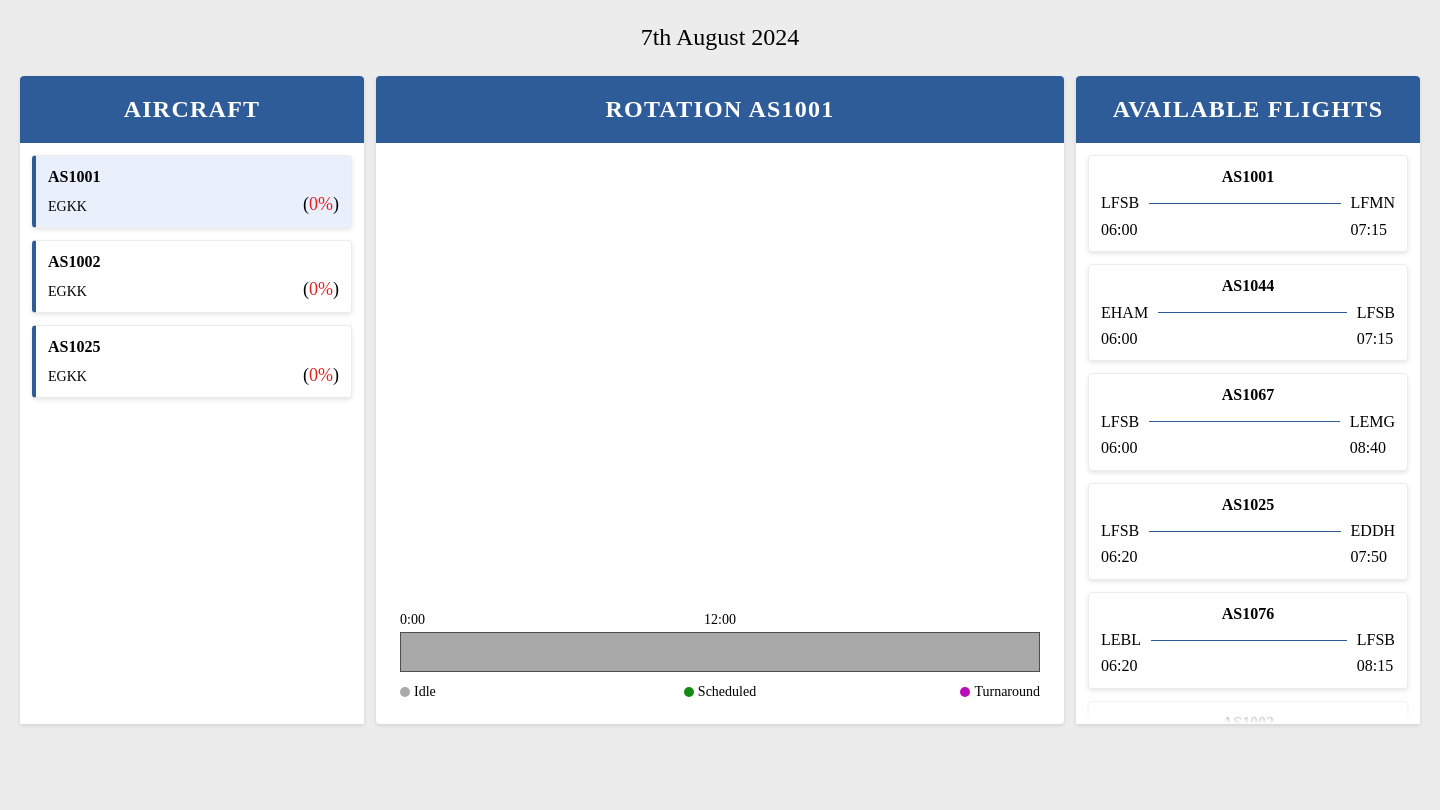
<Scheduler /> › A flight assigned to an aircraft should not appear for other aircraft
The width and height of the screenshot is (1440, 810).
Click the button "AS1001 LFSB 06:00 LFMN 07:15": [1248, 176] box [1088,155,1408,252]
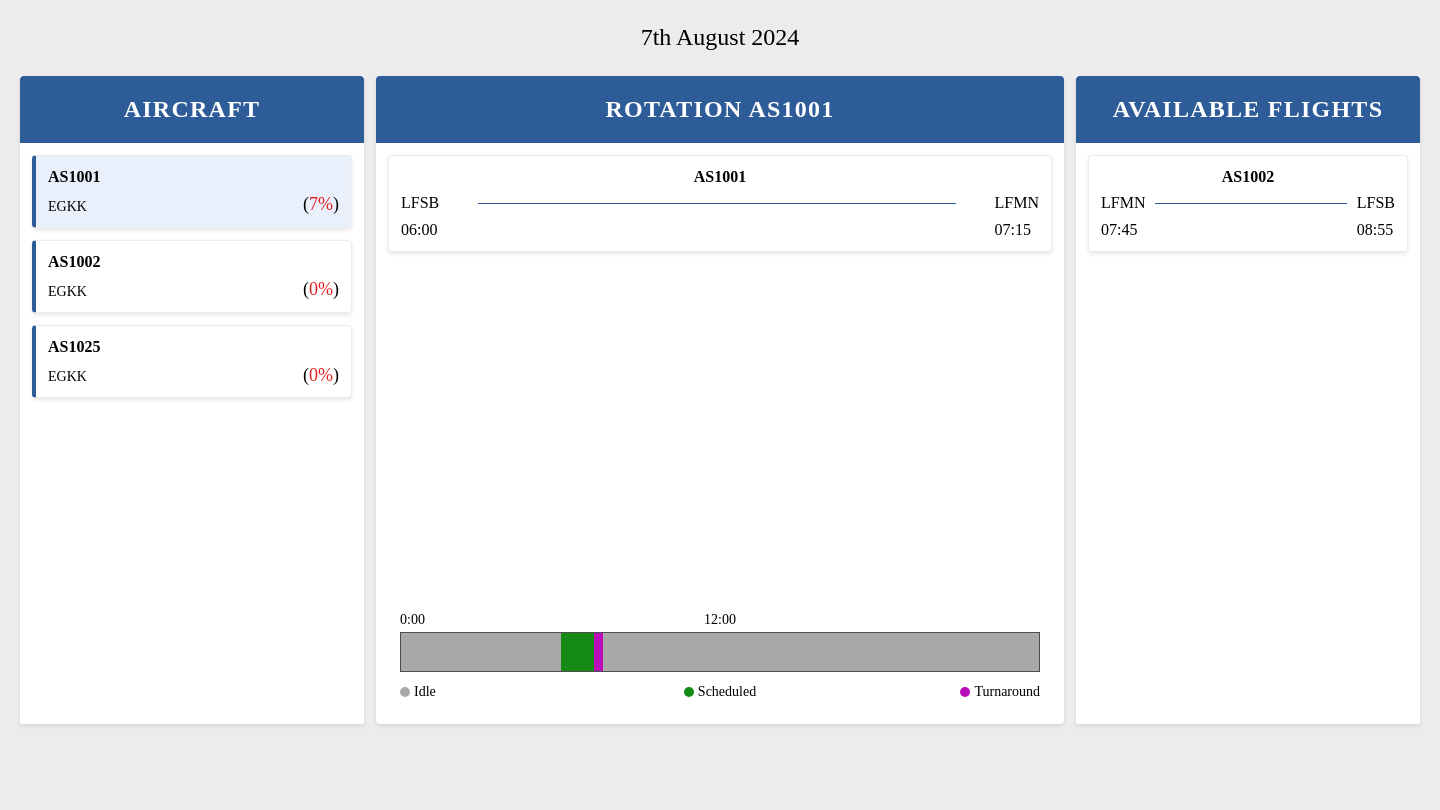
Click the button "AS1002 EGKK (0%)": [74, 262] box [32,240,352,313]
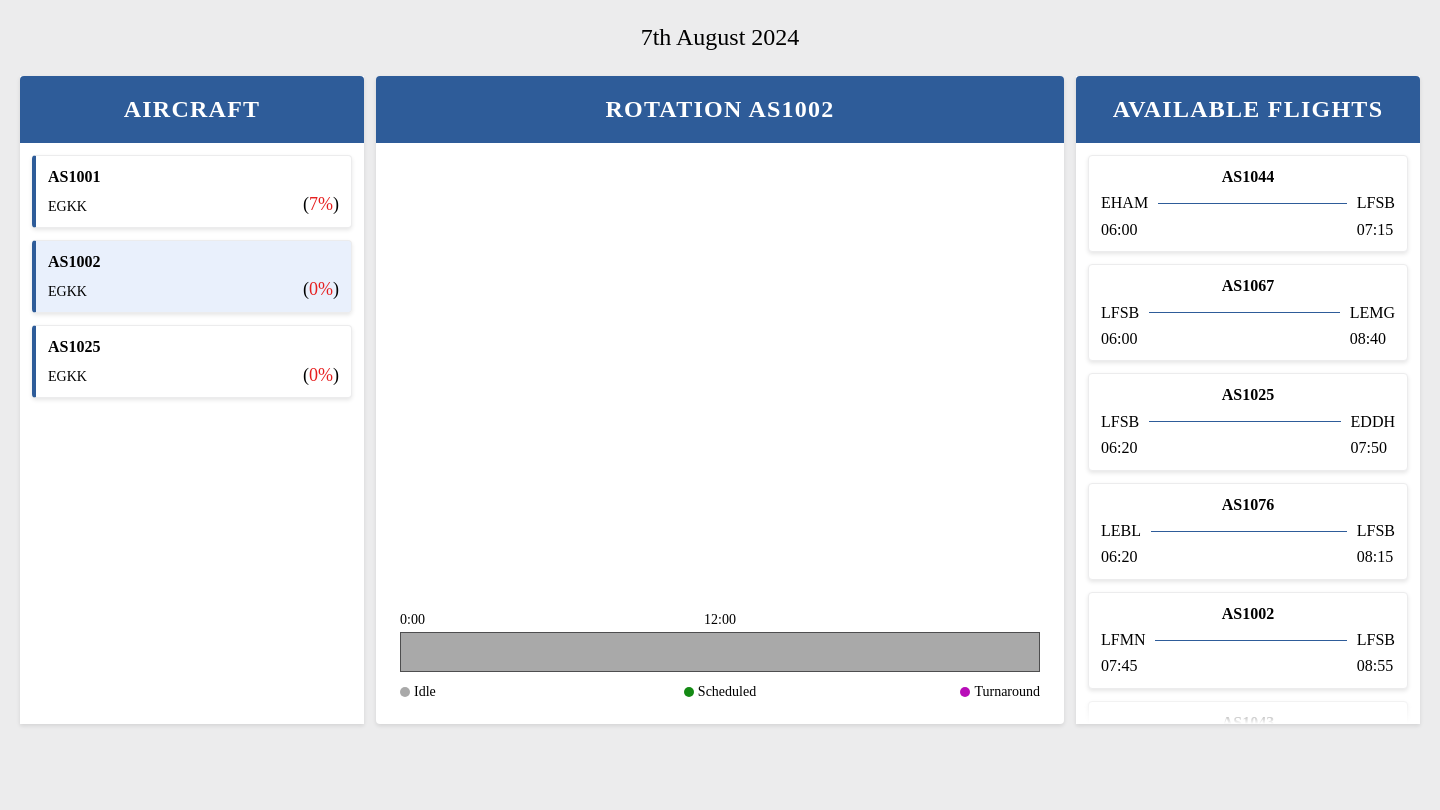
Result: the button "AS1001 LFSB 06:00 LFMN 07:15" is gone
